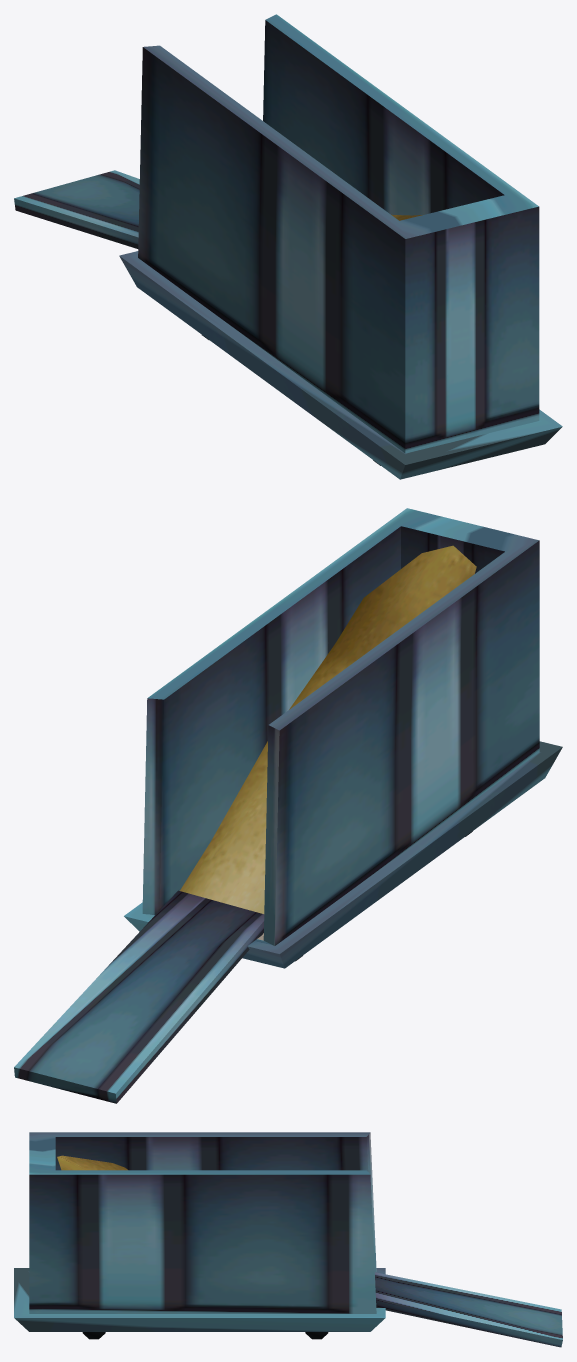
The model's file is Train 03.fbx.
3 views of the same model, one above another, from view 1: azimuth 30°, elevation 25°; view 2: azimuth 150°, elevation 25°; view 3: azimuth 270°, elevation 25° (orthographic). The views are drawn at different scales.
Visible parts, largest first — view 1: pCube40; view 2: pCube40; view 3: pCube40.
Boxes of the visible parts, <box> form: pCube40: <box>14,14,562,479</box>; pCube40: <box>14,508,562,1103</box>; pCube40: <box>14,1132,562,1347</box>.
Size of the model in its own units: 1446 by 2409 by 6710.
